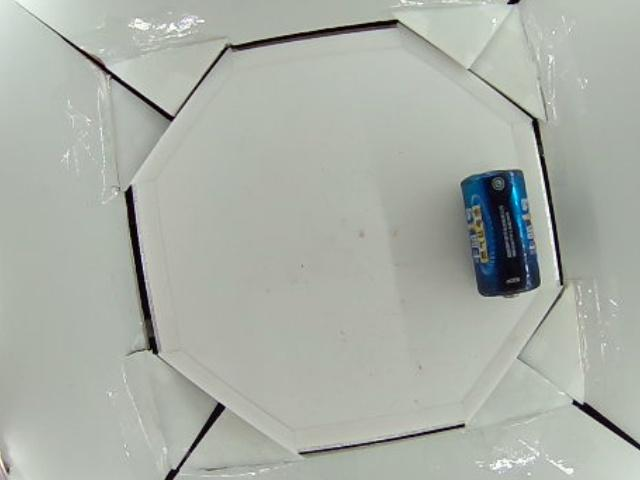Battery: (459, 169, 542, 300)
